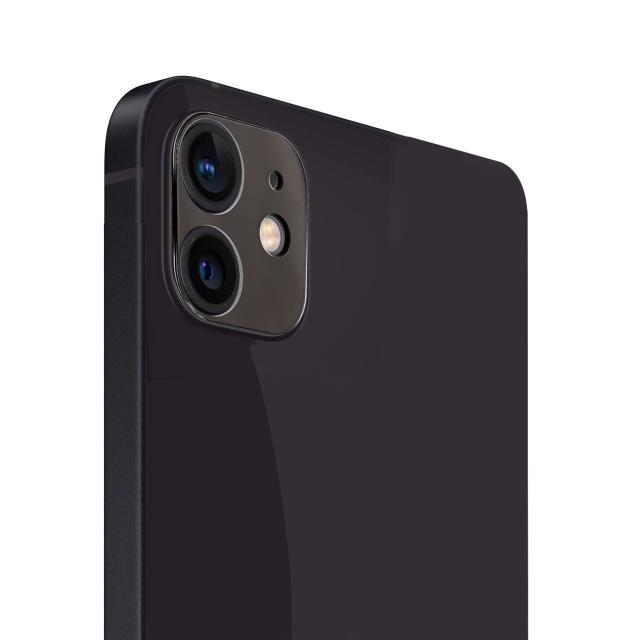hidden camera: (174, 112, 317, 343)
